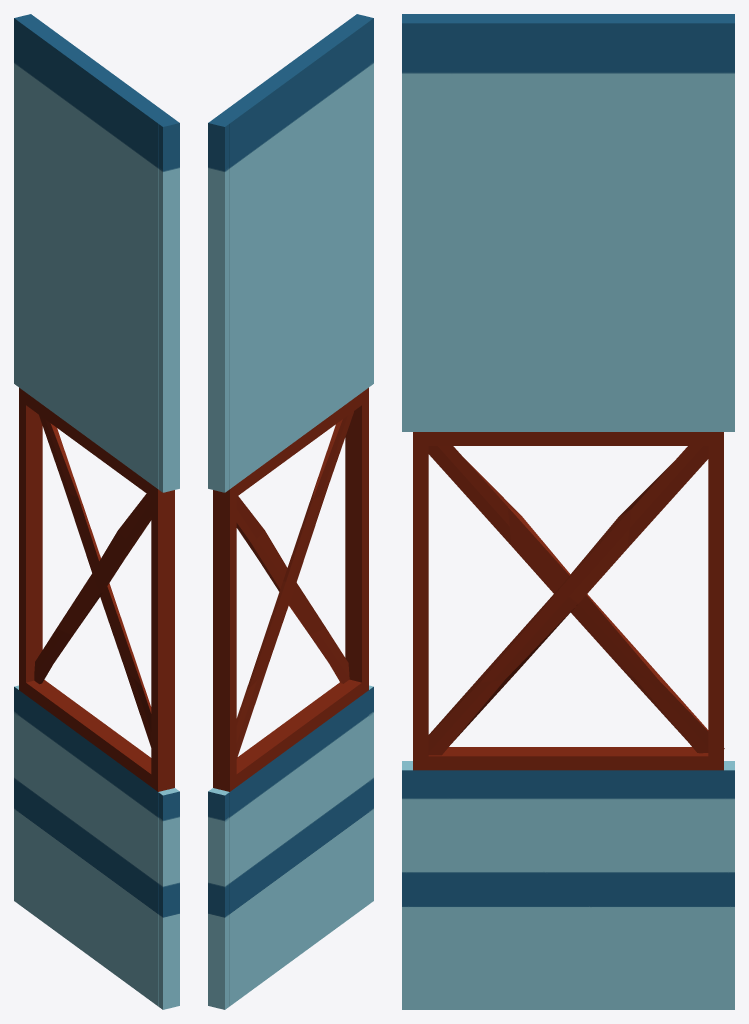
Rendered from WoodenWindow_Small.fbx.
The picture shows the model from 3 angles, left to right: view 1: azimuth 30°, elevation 25°; view 2: azimuth 150°, elevation 25°; view 3: azimuth 270°, elevation 25°; orthographic projection. The views are drawn at different scales.
Parts seen in each view (by area): view 1: WoodenWindow_Small; view 2: WoodenWindow_Small; view 3: WoodenWindow_Small.
Boxes of the visible parts, x1,y1,x2,y2 form: WoodenWindow_Small: (14,14,179,1009); WoodenWindow_Small: (208,14,373,1009); WoodenWindow_Small: (402,14,734,1009).
Bounding box in the file's own units: 7 × 350 × 107.
